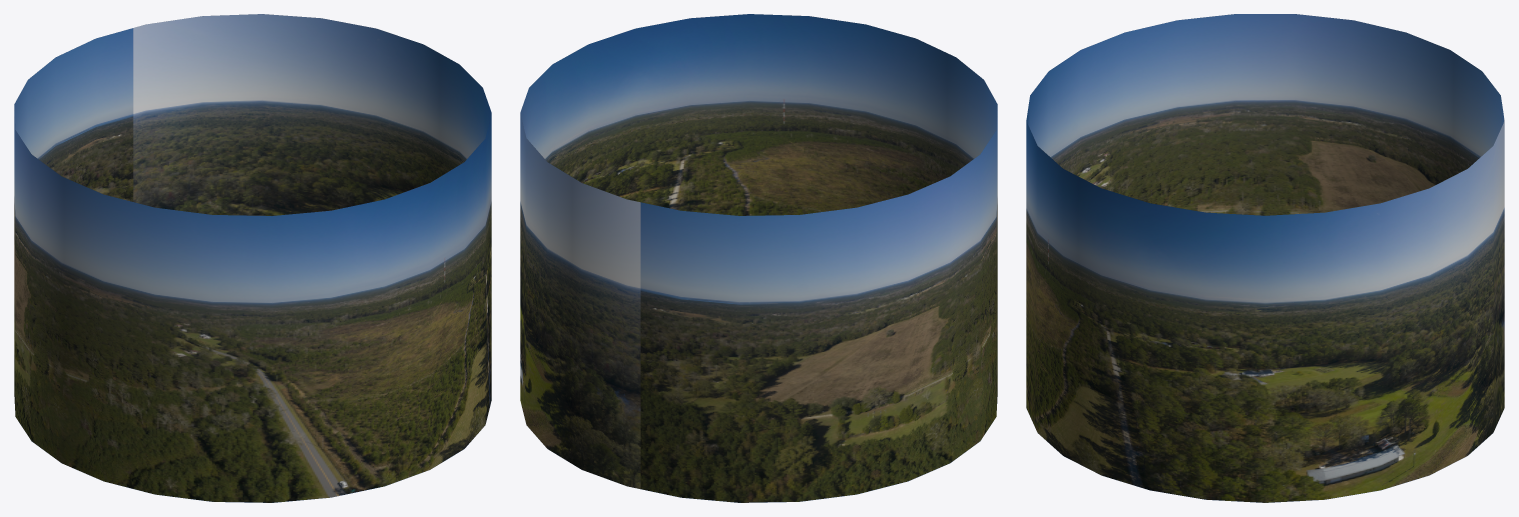
Rendered from prac3.FBX.
3 views of the same model, side by side, from view 1: azimuth 30°, elevation 25°; view 2: azimuth 150°, elevation 25°; view 3: azimuth 270°, elevation 25° (orthographic).
Visible parts, largest first — view 1: Cylinder001; view 2: Cylinder001; view 3: Cylinder001.
Part boxes in pixels (<box>): Cylinder001: <box>14,14,491,502</box>; Cylinder001: <box>520,14,997,502</box>; Cylinder001: <box>1026,14,1504,502</box>.
Bounding box in the file's own units: 153 × 101 × 153.
Materials: 1 (1 with a texture image).
